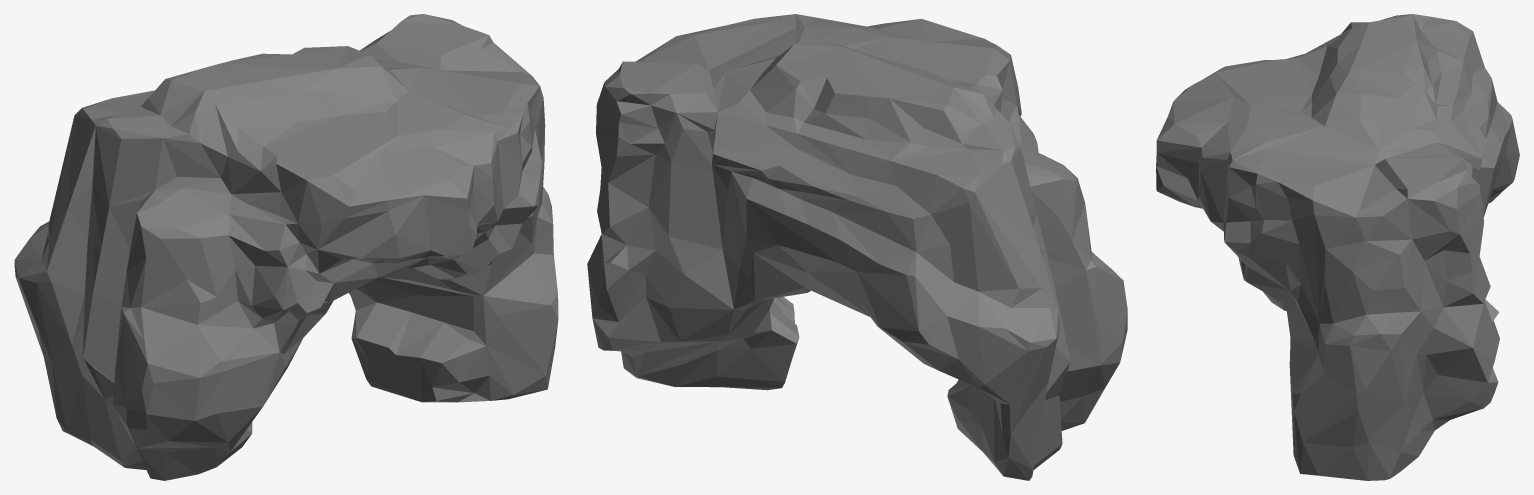
File: alpine_SM_Env_Rock_Cliff_Arch_01.gltf
3 views of the same model, side by side, from view 1: azimuth 30°, elevation 25°; view 2: azimuth 150°, elevation 25°; view 3: azimuth 270°, elevation 25° (orthographic). The views are drawn at different scales.
Visible parts, largest first — view 1: SM_Env_Rock_Cliff_Arch_01; view 2: SM_Env_Rock_Cliff_Arch_01; view 3: SM_Env_Rock_Cliff_Arch_01.
Part boxes in pixels (<box>): SM_Env_Rock_Cliff_Arch_01: <box>14,14,558,480</box>; SM_Env_Rock_Cliff_Arch_01: <box>587,14,1127,480</box>; SM_Env_Rock_Cliff_Arch_01: <box>1156,14,1519,480</box>.
Size of the model in its own units: 13.1 by 9.12 by 9.4.
Materials: 1 (1 with a texture image).
